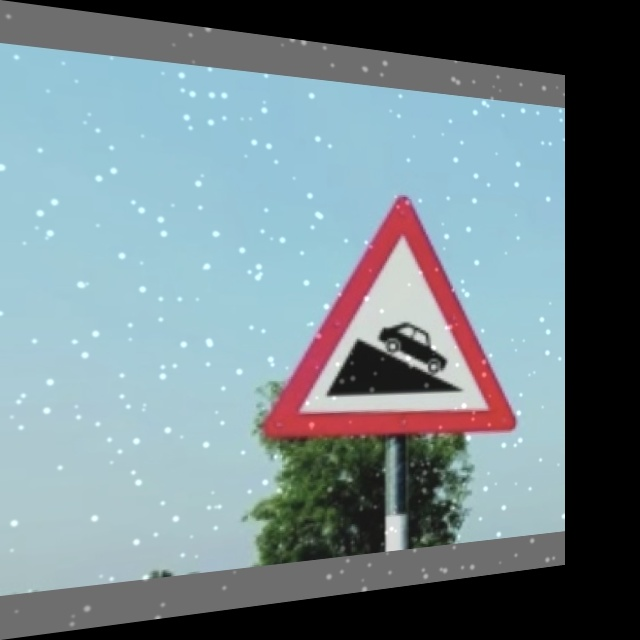Steep_Descent: (259, 185, 525, 449)
